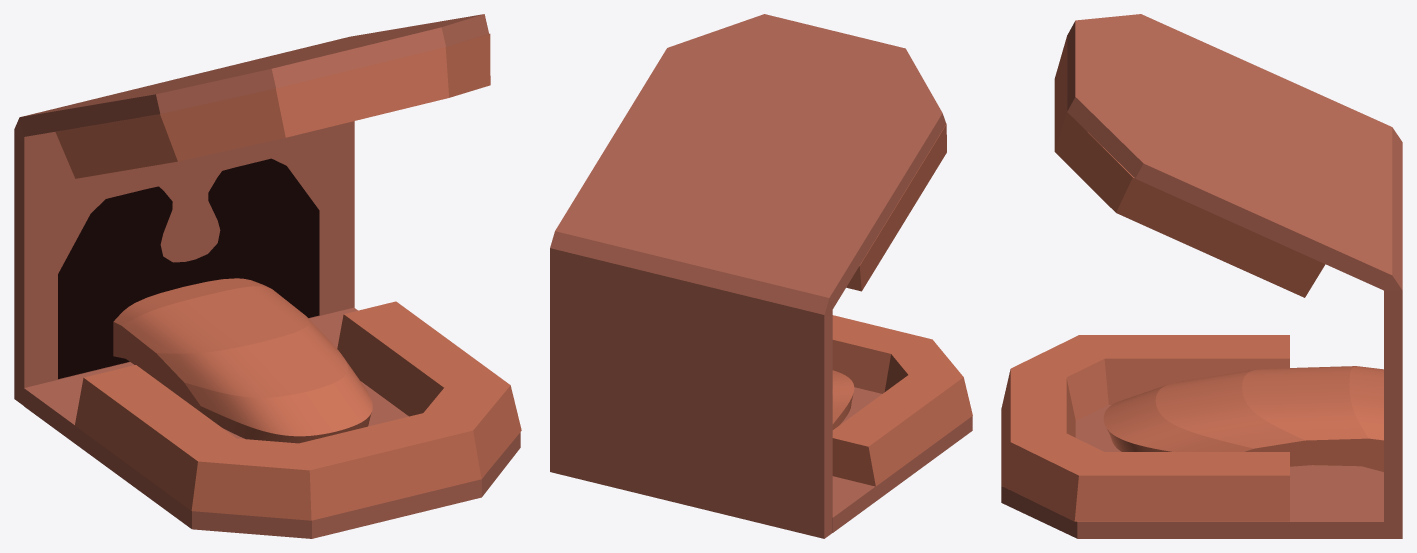
File: gum.fbx
3 renders of one model, left to right at view 1: azimuth 30°, elevation 25°; view 2: azimuth 150°, elevation 25°; view 3: azimuth 270°, elevation 25°, orthographic. The views are drawn at different scales.
Parts seen in each view (by area): view 1: 개체_7, 개체_9, 개체_3, 개체_4, 개체_5, 개체_6, 개체_1, 개체_2; view 2: 개체_6, 개체_4, 개체_7, 개체_8, 개체_1, 개체_5, 개체_9; view 3: 개체_6, 개체_7, 개체_9, 개체_1, 개체_5, 개체_4, 개체_8.
Part boxes in pixels (left/top/right/bottom): 개체_7: left=75, top=301, right=521, bottom=520; 개체_9: left=113, top=278, right=372, bottom=443; 개체_3: left=58, top=158, right=319, bottom=379; 개체_4: left=14, top=121, right=354, bottom=405; 개체_5: left=55, top=33, right=490, bottom=178; 개체_6: left=19, top=14, right=488, bottom=136; 개체_1: left=24, top=307, right=520, bottom=538; 개체_2: left=85, top=136, right=292, bottom=262; 개체_6: left=555, top=14, right=946, bottom=308; 개체_4: left=550, top=248, right=832, bottom=538; 개체_7: left=832, top=315, right=972, bottom=486; 개체_8: left=550, top=231, right=832, bottom=317; 개체_1: left=832, top=387, right=972, bottom=532; 개체_5: left=846, top=123, right=946, bottom=291; 개체_9: left=832, top=370, right=854, bottom=429; 개체_6: left=1067, top=14, right=1392, bottom=290; 개체_7: left=1001, top=335, right=1289, bottom=521; 개체_9: left=1103, top=366, right=1383, bottom=471; 개체_1: left=1001, top=405, right=1383, bottom=538; 개체_5: left=1054, top=35, right=1325, bottom=297; 개체_4: left=1384, top=290, right=1402, bottom=538; 개체_8: left=1379, top=127, right=1402, bottom=290.
Size of the model in its own units: 37.77 by 43.08 by 48.08.
